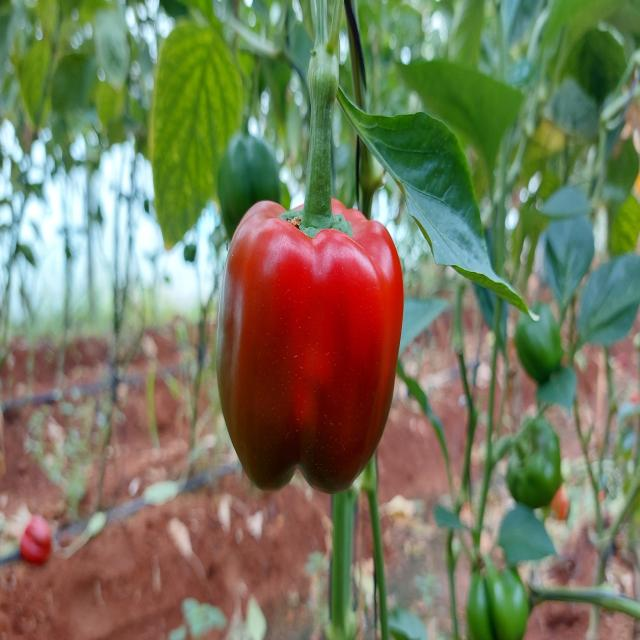Red-Ready-to-Harvest: (210, 194, 411, 497)
